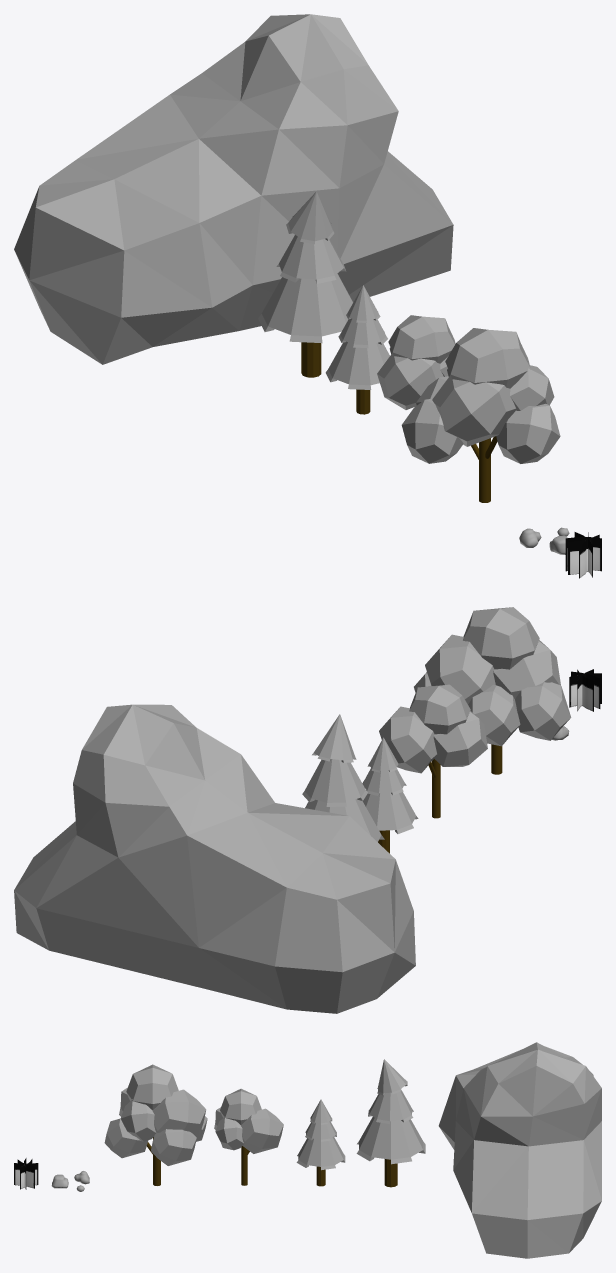
Rendered from senlin.fbx.
The picture shows the model from 3 angles, top to bottom: view 1: azimuth 30°, elevation 25°; view 2: azimuth 150°, elevation 25°; view 3: azimuth 270°, elevation 25°; orthographic projection. The views are drawn at different scales.
Visible parts, largest first — view 1: pCube17, pCylinder6, pCone5, pCube13, pCone4, pPlane5; view 2: pCube17, pCylinder6, pCube13, pCone5, pCone4, pPlane5; view 3: pCube17, pCylinder6, pCone5, pCube13, pCone4, pPlane5.
Boxes of the visible parts, bbox=[...] form: pCube17: bbox=[14, 14, 453, 364]; pCylinder6: bbox=[401, 328, 560, 502]; pCone5: bbox=[258, 191, 353, 377]; pCube13: bbox=[377, 315, 455, 409]; pCone4: bbox=[325, 285, 389, 414]; pPlane5: bbox=[565, 532, 601, 578]; pCube17: bbox=[14, 704, 415, 1013]; pCylinder6: bbox=[414, 607, 571, 774]; pCube13: bbox=[379, 684, 487, 818]; pCone5: bbox=[302, 714, 384, 841]; pCone4: bbox=[362, 737, 418, 853]; pPlane5: bbox=[569, 669, 601, 711]; pCube17: bbox=[438, 1042, 601, 1258]; pCylinder6: bbox=[104, 1064, 207, 1185]; pCone5: bbox=[356, 1059, 425, 1187]; pCube13: bbox=[214, 1088, 283, 1185]; pCone4: bbox=[296, 1099, 345, 1186]; pPlane5: bbox=[14, 1158, 38, 1189].
Size of the model in its own units: 28.42 by 17.27 by 53.81.
Materials: 3 (1 with a texture image).
